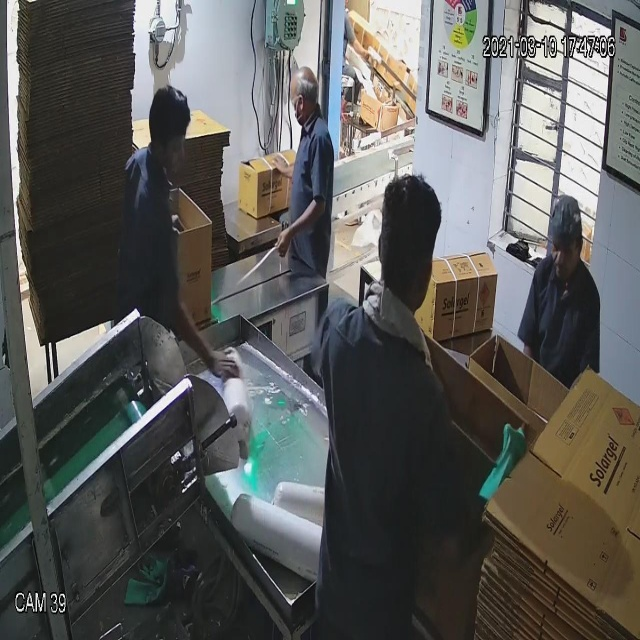Sin_guantes: (157, 269, 244, 393), (269, 198, 333, 272)
